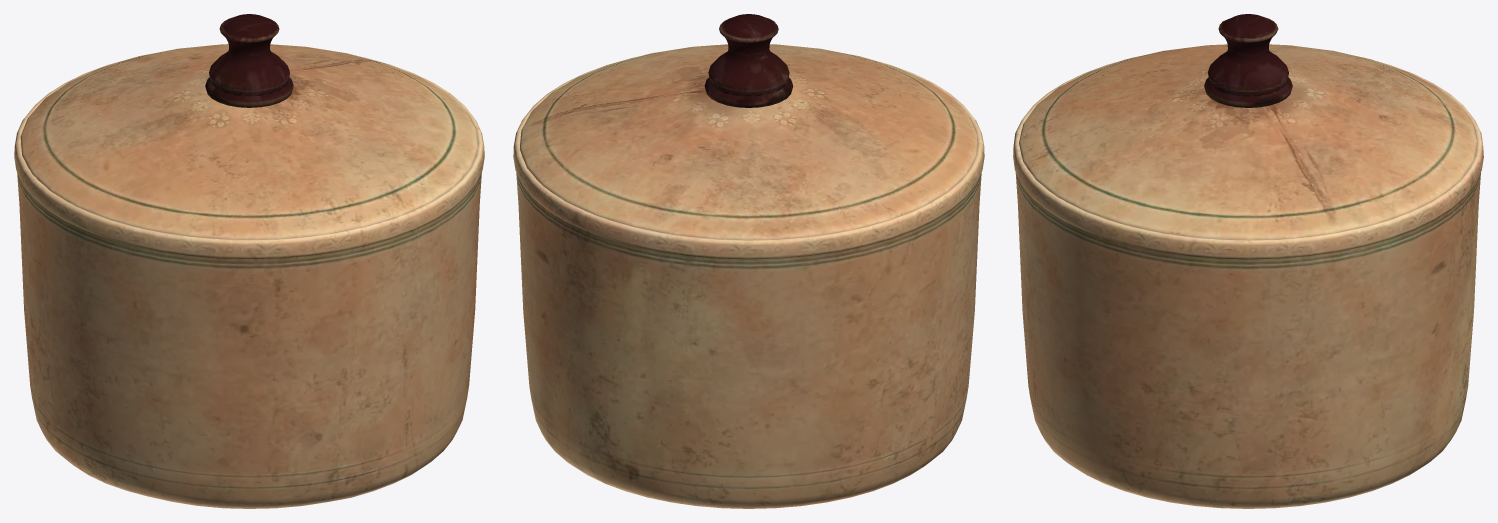
Rendered from vessel_brass.glb.
The picture shows the model from 3 angles, left to right: view 1: azimuth 30°, elevation 25°; view 2: azimuth 150°, elevation 25°; view 3: azimuth 270°, elevation 25°; orthographic projection.
Parts seen in each view (by area): view 1: brass_pot_01; view 2: brass_pot_01; view 3: brass_pot_01.
Boxes of the visible parts, x1=… form: brass_pot_01: x1=14, y1=14, x2=484, y2=508; brass_pot_01: x1=513, y1=14, x2=984, y2=508; brass_pot_01: x1=1013, y1=14, x2=1483, y2=508.
Size of the model in its own units: 0.3019 by 0.2909 by 0.3017.
1 material, 1 textured.
